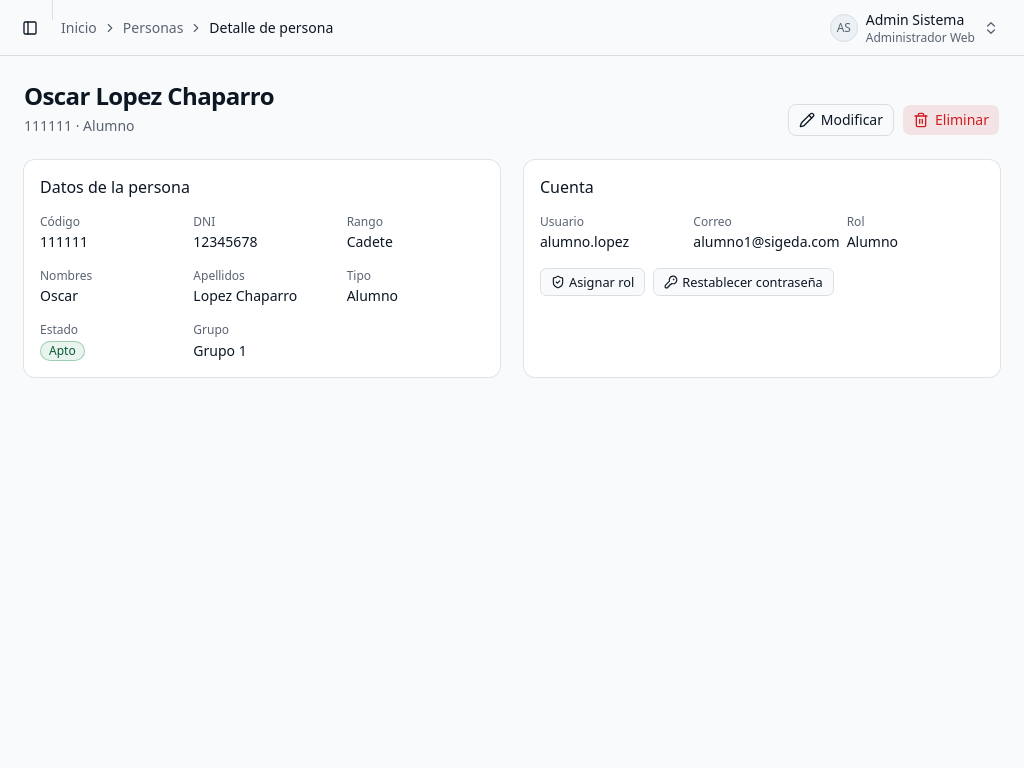
Test: Detalle de persona › CA-PER-08 el rol de un alumno solo puede ser Alumno
Check: the heading "Cuenta" is shown, box x1=540 y1=176 x2=594 y2=198
Click the button "Asignar rol". click: (593, 282)
box: x1=540 y1=268 x2=645 y2=296
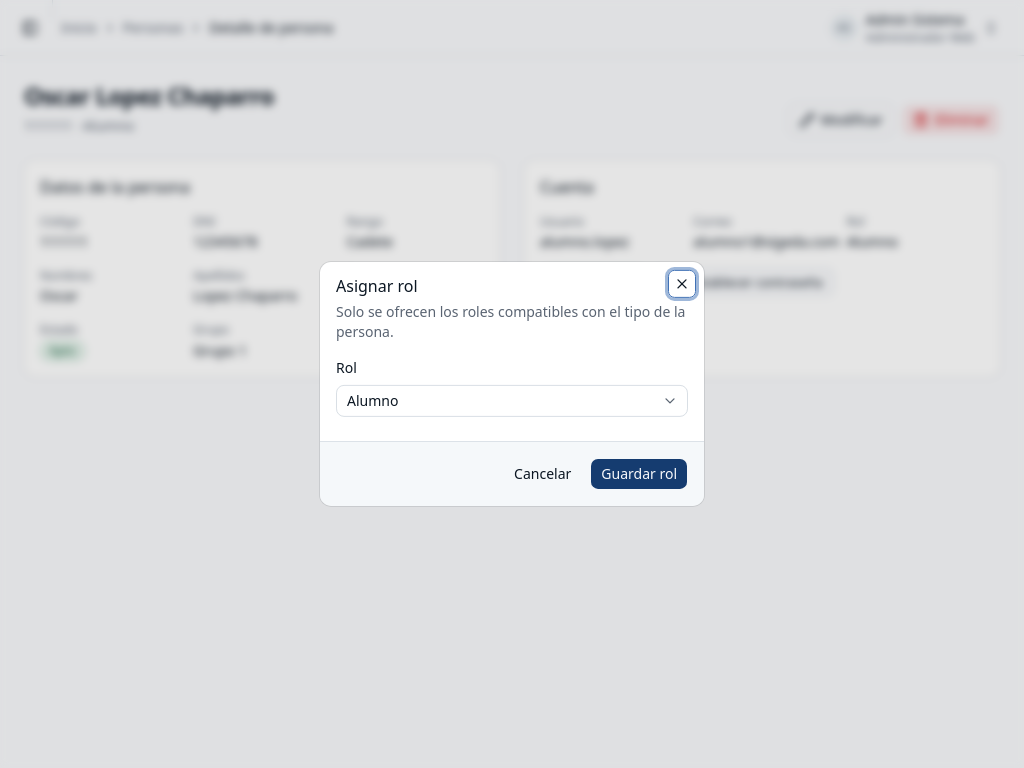
Check: the dropdown labelled "Rol" is shown, box x1=336 y1=385 x2=688 y2=417
